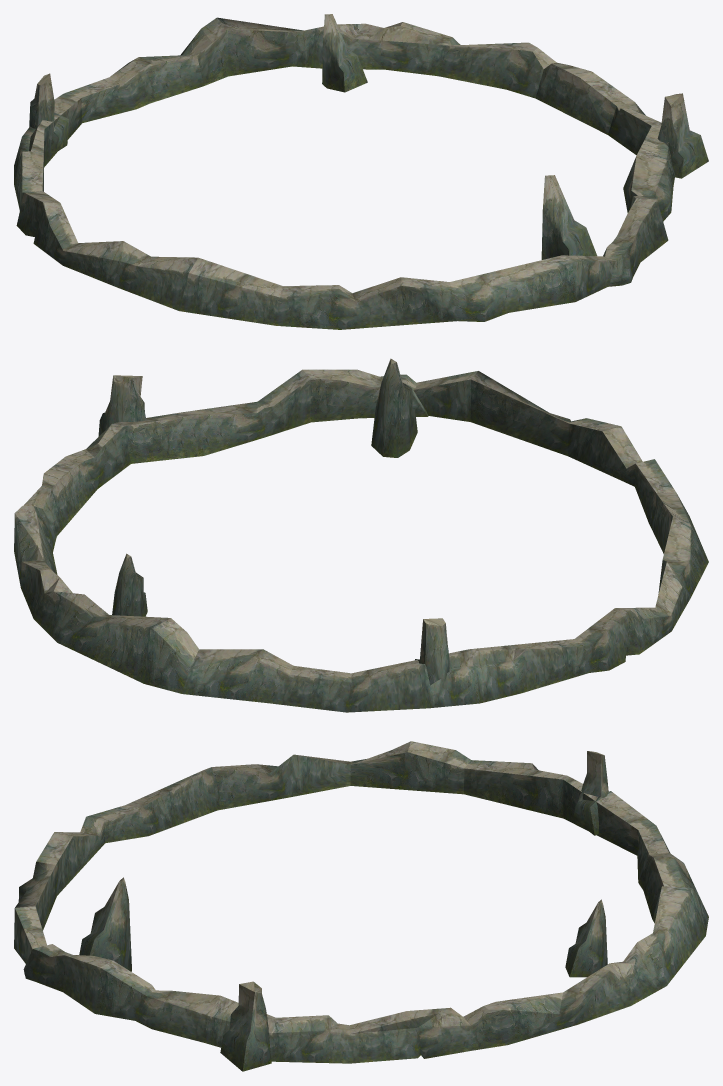
Rendered from environment_Building_zhucheng_dizhuan_001_g.FBX.
3 renders of one model, top to bottom at view 1: azimuth 30°, elevation 25°; view 2: azimuth 150°, elevation 25°; view 3: azimuth 270°, elevation 25°, orthographic. The views are drawn at different scales.
Visible parts, largest first — view 1: environment_Building_zhucheng_dizhuan_001_g; view 2: environment_Building_zhucheng_dizhuan_001_g; view 3: environment_Building_zhucheng_dizhuan_001_g.
Part boxes in pixels (bbox=[...]): environment_Building_zhucheng_dizhuan_001_g: bbox=[14, 14, 708, 329]; environment_Building_zhucheng_dizhuan_001_g: bbox=[14, 358, 708, 712]; environment_Building_zhucheng_dizhuan_001_g: bbox=[14, 741, 708, 1071].
Size of the model in its own units: 1808 by 260 by 1806.
